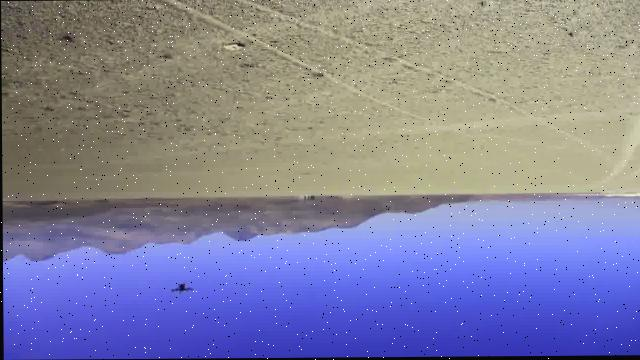drone: (170, 281, 194, 297)
